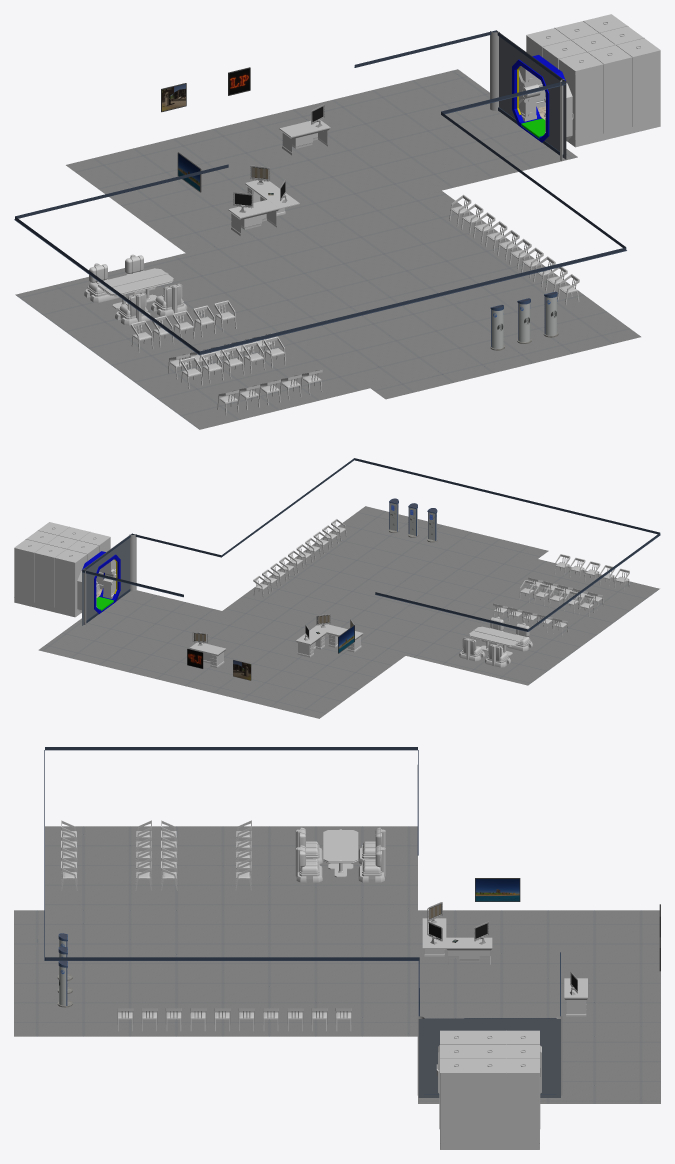
The model's file is vladikavkaz prison update.fbx.
3 renders of one model, top to bottom at view 1: azimuth 30°, elevation 25°; view 2: azimuth 150°, elevation 25°; view 3: azimuth 270°, elevation 25°, orthographic. The views are drawn at different scales.
Visible parts, largest first — view 1: waiting room floor, elevator walls, waiting room wall edge, elevator roof, Chair, Chair.002, sci-fi chair.001, elevator entrance wall, Chair.001, Sci-fi_Door_Frame.001, canteen table.001, wardens table.001 (+5 smaller); view 2: waiting room floor, elevator walls, waiting room wall edge, elevator roof, Chair.001, Chair.002, Chair, sci-fi chair.001, elevator entrance wall, Sci-fi_Door_Frame.001, canteen table.001, wardens table.002 (+4 smaller); view 3: waiting room floor, elevator walls, elevator entrance wall, elevator roof, waiting room wall edge, sci-fi chair.001, Chair.002, Chair, Chair.001, canteen table.001, 1, wardens table.002 (+1 smaller).
Boxes of the visible parts, <box> form: waiting room floor: <box>15,69,640,429</box>; elevator walls: <box>526,26,660,147</box>; waiting room wall edge: <box>14,30,626,355</box>; elevator roof: <box>526,14,660,70</box>; Chair: <box>180,336,322,415</box>; Chair.002: <box>449,194,579,305</box>; sci-fi chair.001: <box>84,254,187,325</box>; elevator entrance wall: <box>496,30,566,159</box>; Chair.001: <box>131,300,272,379</box>; Sci-fi_Door_Frame.001: <box>512,55,565,142</box>; canteen table.001: <box>98,268,173,309</box>; wardens table.001: <box>228,199,279,236</box>; waiting room floor: <box>38,506,659,718</box>; elevator walls: <box>14,537,110,617</box>; waiting room wall edge: <box>82,458,660,631</box>; elevator roof: <box>14,522,109,562</box>; Chair.001: <box>493,580,594,636</box>; Chair.002: <box>253,519,346,598</box>; Chair: <box>528,554,629,610</box>; sci-fi chair.001: <box>459,616,532,667</box>; elevator entrance wall: <box>82,534,131,625</box>; Sci-fi_Door_Frame.001: <box>82,551,120,613</box>; canteen table.001: <box>469,626,523,655</box>; wardens table.002: <box>296,629,326,657</box>; waiting room floor: <box>14,826,660,1103</box>; elevator walls: <box>439,1045,540,1149</box>; elevator entrance wall: <box>418,1019,560,1097</box>; elevator roof: <box>440,1030,539,1072</box>; waiting room wall edge: <box>44,747,560,1016</box>; sci-fi chair.001: <box>295,827,385,882</box>; Chair.002: <box>117,1008,351,1031</box>; Chair: <box>61,820,152,890</box>; Chair.001: <box>161,820,251,890</box>; canteen table.001: <box>323,829,358,877</box>; 1: <box>475,879,519,901</box>; wardens table.002: <box>446,937,492,964</box>.
Size of the model in its own units: 3073 by 351 by 2591.
